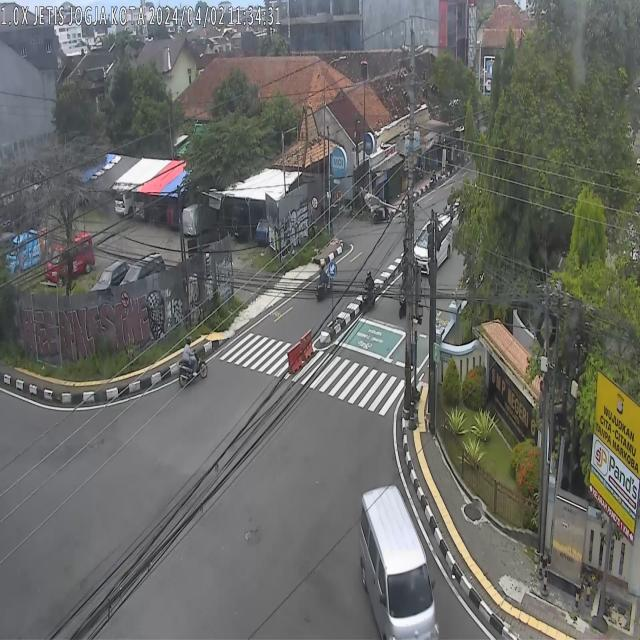car: (359, 484, 437, 640), (414, 213, 453, 274)
motorcycle: (176, 336, 208, 388), (361, 269, 376, 313), (316, 264, 332, 302)
